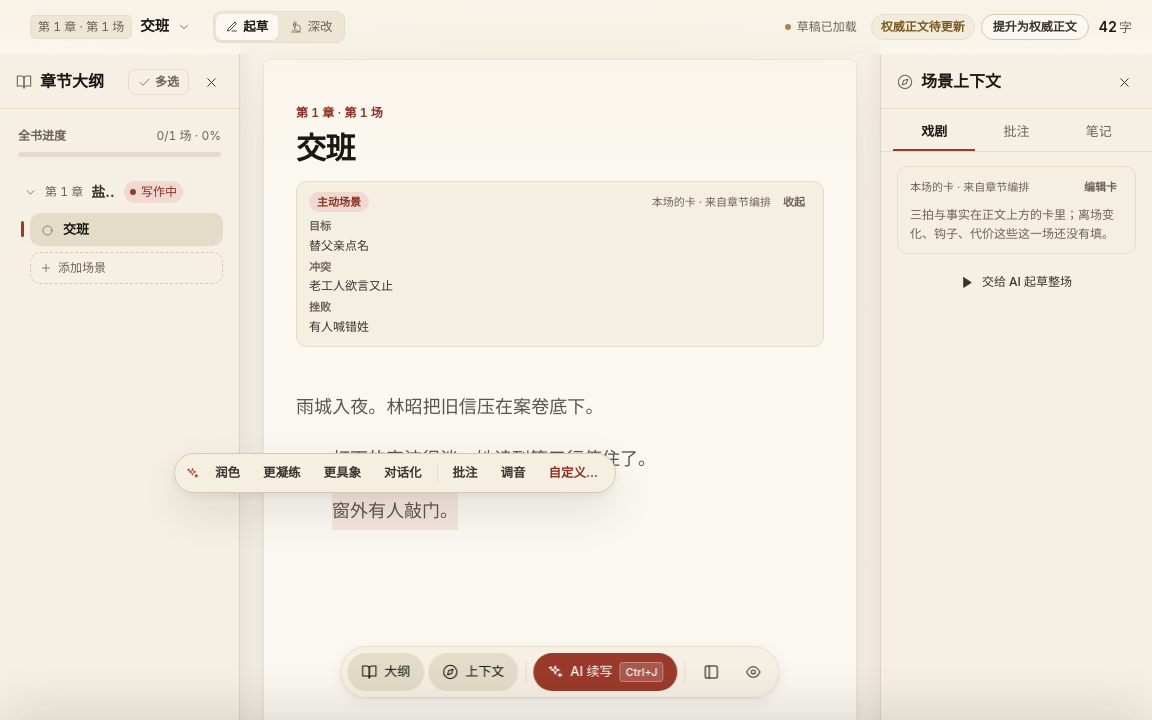
Scenario: 写作台 · 跨段改写按段换回（#20b） › 服务端回 WRITER_PASSAGE_PATCH_EMPTY：说模型没给出可用的结果，可以重试
This screenshot has width=1152, height=720.
expect the field with class "wr-editor" shows "林昭": met, box x1=296 y1=397 x2=656 y2=522
Click the button "润色".
click(228, 473)  # box x1=204 y1=458 x2=251 y2=488
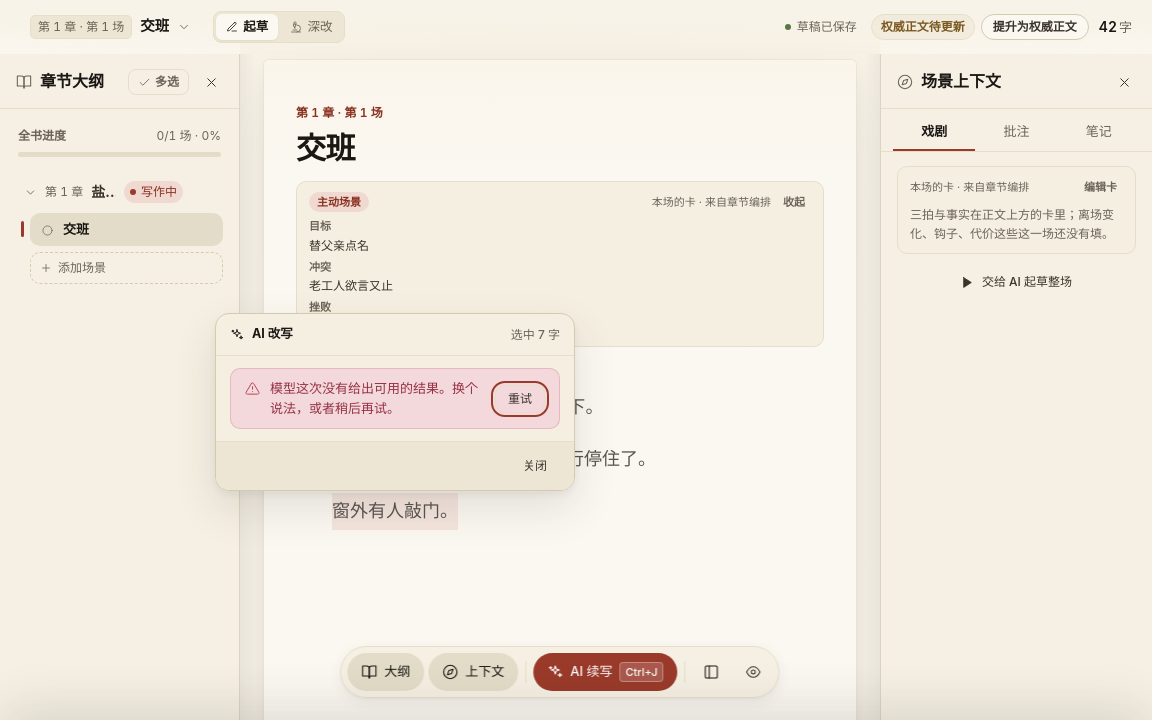
expect the dialog with class "wr-irw-pop" shows "模型这次没有给出可用的结果": met, box x1=270 y1=380 x2=478 y2=416
expect the button "重试" is shown: met, box x1=495 y1=385 x2=545 y2=413
